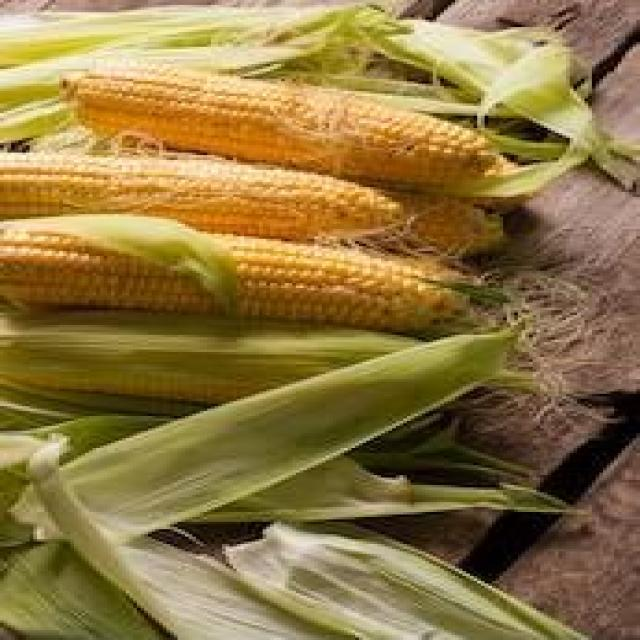Corn ear: (0, 141, 391, 235), (245, 241, 485, 331), (61, 64, 313, 146), (287, 91, 493, 183), (0, 238, 200, 310)
